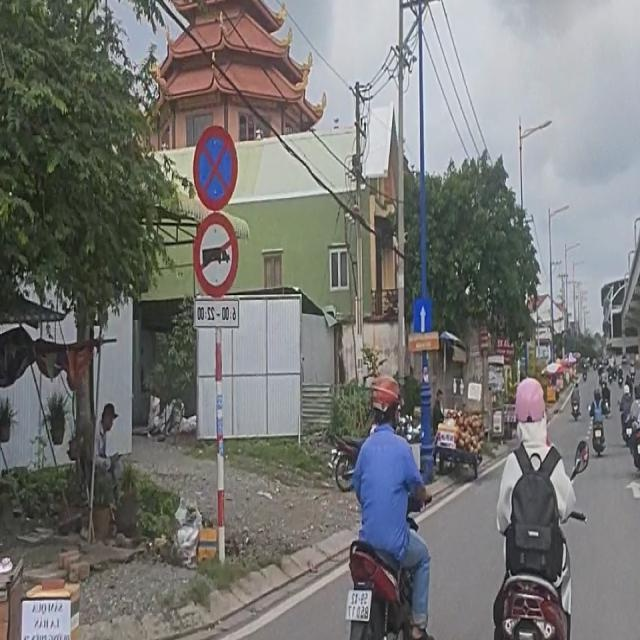B.8a: (193, 212, 239, 296)
P.130: (193, 124, 237, 210)
